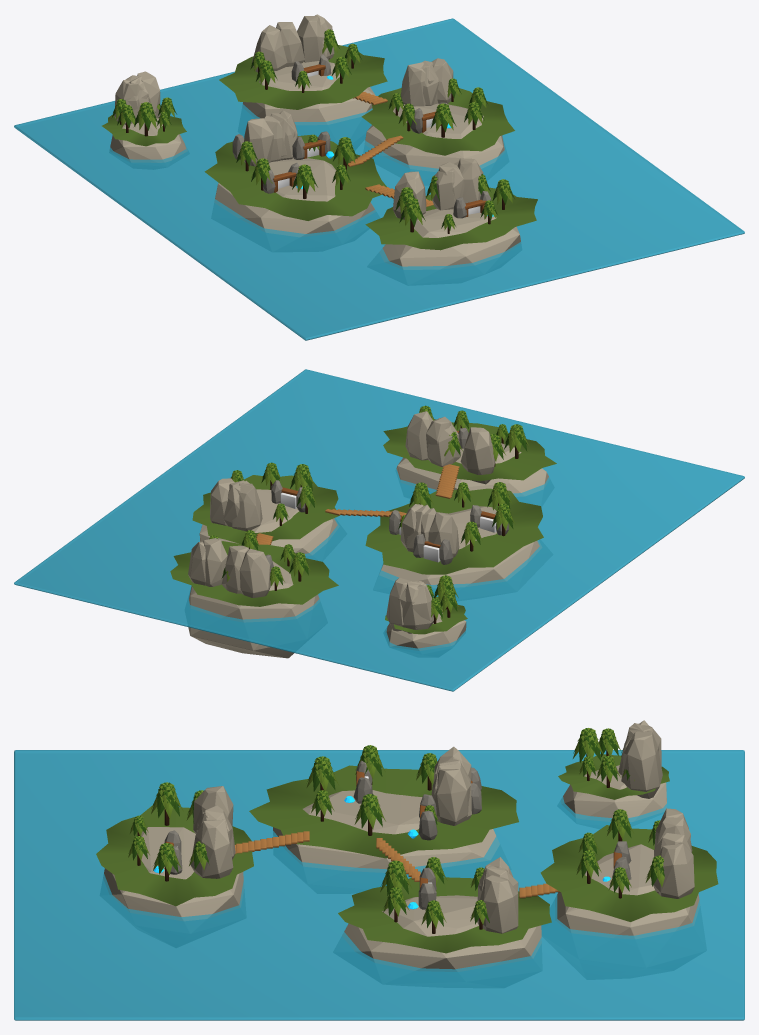
File: RegionMap.fbx
3 renders of one model, top to bottom at view 1: azimuth 30°, elevation 25°; view 2: azimuth 150°, elevation 25°; view 3: azimuth 270°, elevation 25°, orthographic. The views are drawn at different scales.
Parts seen in each view (by area): view 1: RegionMap_Env_Water, RegionMap_Env_StoneLight, RegionMap_Env_Grass, RegionMap_Env_LeafLight, RegionMap_Env_Leaf, RegionMap_Env_Stone, RegionMap_Env_LightOak, RegionMap_Env_Oak, RegionMap_Env_DarkOak; view 2: RegionMap_Env_Water, RegionMap_Env_StoneLight, RegionMap_Env_Grass, RegionMap_Env_LeafLight, RegionMap_Env_Leaf, RegionMap_Env_Stone, RegionMap_Env_LightOak, RegionMap_Env_Iron; view 3: RegionMap_Env_Water, RegionMap_Env_StoneLight, RegionMap_Env_Grass, RegionMap_Env_LeafLight, RegionMap_Env_Leaf, RegionMap_Env_Stone, RegionMap_Env_LightOak, RegionMap_Env_DarkOak.
Part boxes in pixels (x1=…): RegionMap_Env_Water: x1=14, y1=18, x2=744, y2=340; RegionMap_Env_StoneLight: x1=110, y1=14, x2=520, y2=269; RegionMap_Env_Grass: x1=102, y1=45, x2=537, y2=250; RegionMap_Env_LeafLight: x1=113, y1=29, x2=512, y2=230; RegionMap_Env_Leaf: x1=112, y1=29, x2=514, y2=230; RegionMap_Env_Stone: x1=232, y1=55, x2=491, y2=218; RegionMap_Env_LightOak: x1=347, y1=92, x2=433, y2=206; RegionMap_Env_Oak: x1=273, y1=64, x2=485, y2=217; RegionMap_Env_DarkOak: x1=120, y1=58, x2=504, y2=233; RegionMap_Env_Water: x1=14, y1=369, x2=744, y2=691; RegionMap_Env_StoneLight: x1=188, y1=411, x2=549, y2=658; RegionMap_Env_Grass: x1=170, y1=419, x2=556, y2=634; RegionMap_Env_LeafLight: x1=209, y1=406, x2=529, y2=619; RegionMap_Env_Leaf: x1=209, y1=405, x2=527, y2=618; RegionMap_Env_Stone: x1=265, y1=427, x2=509, y2=572; RegionMap_Env_LightOak: x1=256, y1=464, x2=459, y2=544; RegionMap_Env_Iron: x1=280, y1=492, x2=496, y2=562; RegionMap_Env_Water: x1=14, y1=750, x2=744, y2=1020; RegionMap_Env_StoneLight: x1=103, y1=720, x2=699, y2=971; RegionMap_Env_Grass: x1=96, y1=754, x2=718, y2=953; RegionMap_Env_LeafLight: x1=128, y1=728, x2=664, y2=928; RegionMap_Env_Leaf: x1=128, y1=728, x2=664, y2=927; RegionMap_Env_Stone: x1=164, y1=760, x2=631, y2=909; RegionMap_Env_LightOak: x1=235, y1=831, x2=560, y2=898; RegionMap_Env_DarkOak: x1=137, y1=749, x2=658, y2=933.
Bounding box in the file's own units: 20 × 4.86 × 23.
